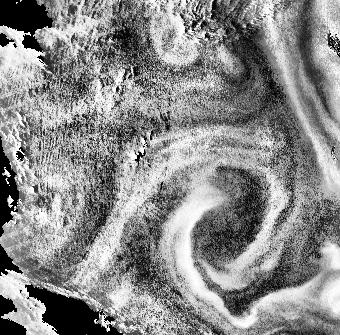AE: (154, 121, 304, 298)
